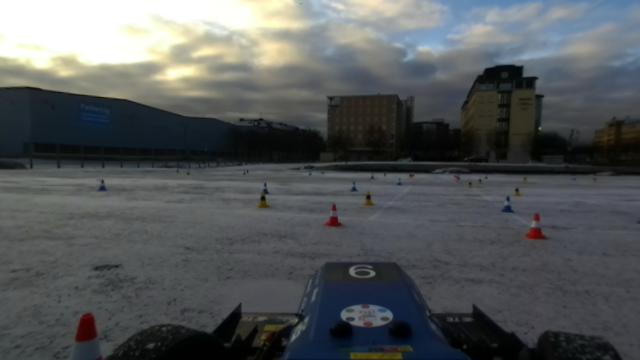blue: (499, 195, 514, 214), (348, 179, 357, 194), (260, 181, 270, 193), (98, 180, 107, 193)
orange: (524, 212, 545, 240), (322, 202, 342, 229)
yellow: (362, 191, 372, 209), (259, 192, 268, 206)
